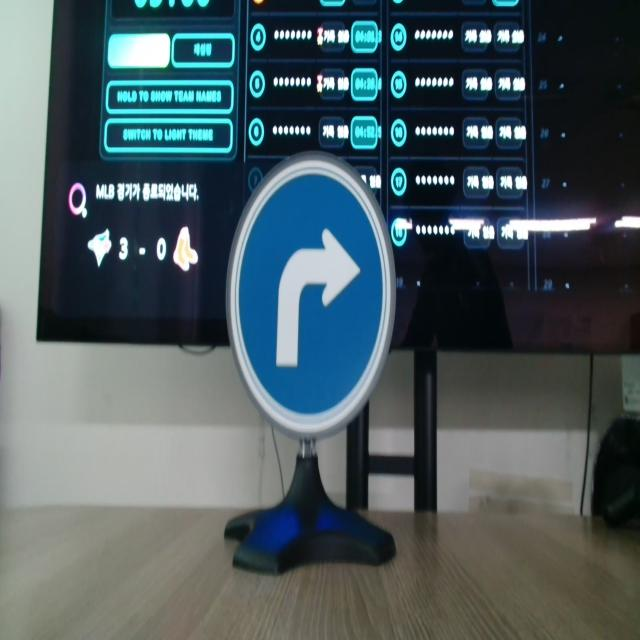right_dierection: (209, 138, 415, 460)
